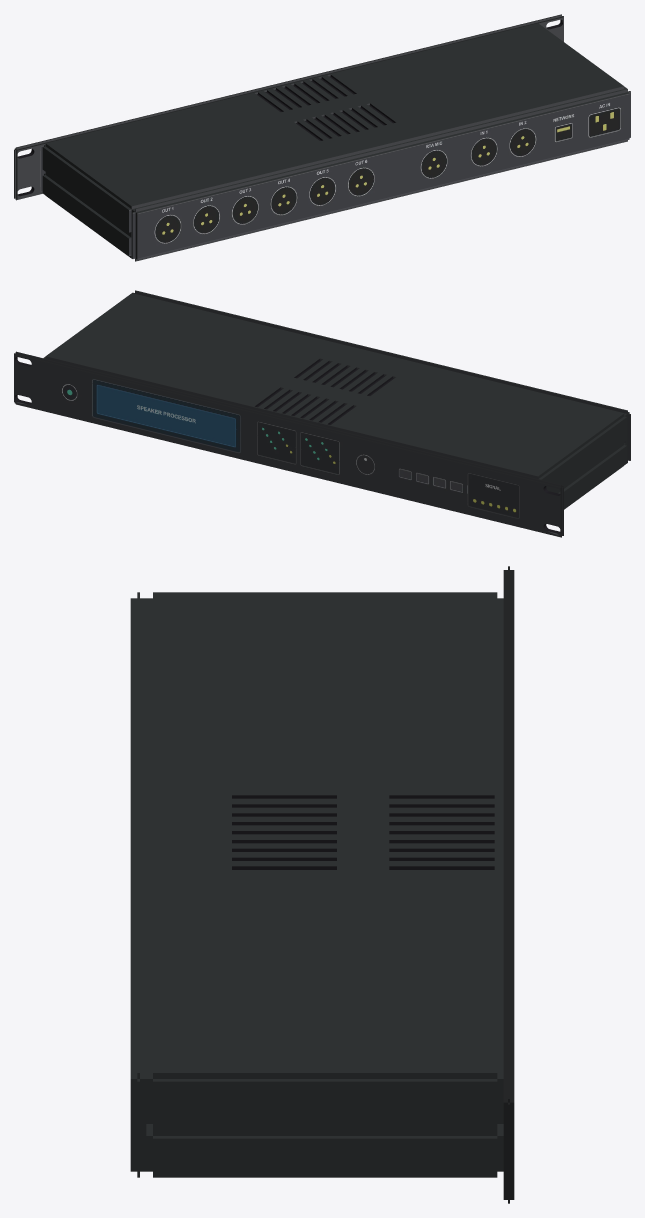
File: dbx-driverack-pa2.glb
3 renders of one model, top to bottom at view 1: azimuth 30°, elevation 25°; view 2: azimuth 150°, elevation 25°; view 3: azimuth 270°, elevation 25°, orthographic. The views are drawn at different scales.
Parts seen in each view (by area): view 1: dbx-driverack-pa2-body; view 2: dbx-driverack-pa2-body; view 3: dbx-driverack-pa2-body.
Part boxes in pixels (x1,y1,x2,y2): dbx-driverack-pa2-body: (14, 14, 630, 261); dbx-driverack-pa2-body: (14, 290, 630, 537); dbx-driverack-pa2-body: (130, 566, 514, 1203).
Bounding box in the file's own units: 0.483 × 0.044 × 0.146.
Materials: 1 (1 with a texture image).
